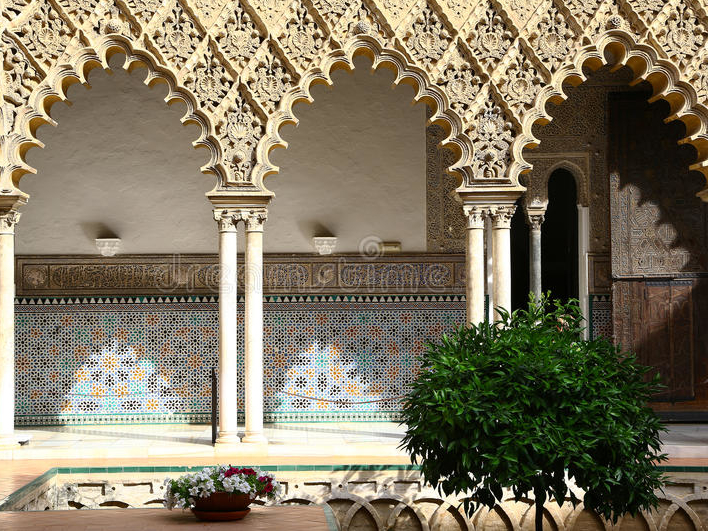arco-lobulado: (242, 29, 489, 238), (1, 26, 244, 237), (489, 25, 708, 234)
